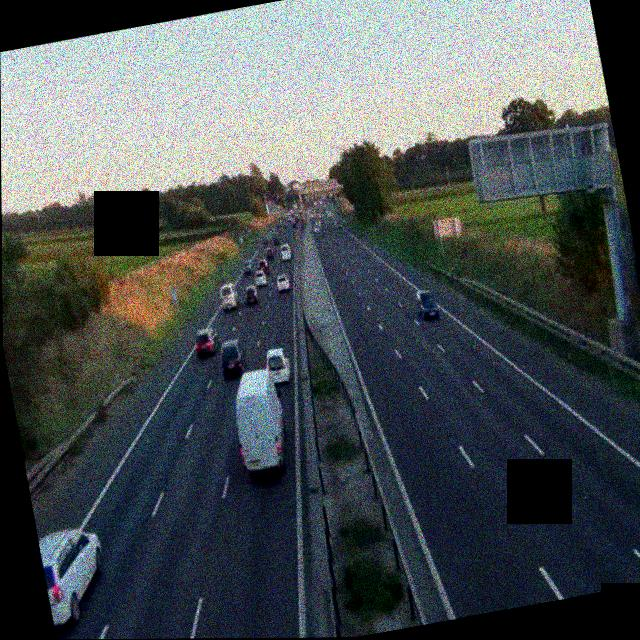car: (37, 524, 112, 628), (262, 343, 292, 386), (217, 339, 248, 379), (192, 326, 220, 358), (414, 286, 439, 319), (218, 282, 238, 310), (244, 282, 261, 305), (274, 272, 290, 292), (252, 267, 268, 287), (278, 243, 291, 262), (240, 261, 253, 277), (263, 246, 274, 261), (260, 234, 270, 247), (312, 221, 322, 233), (334, 219, 342, 231)
truck: (226, 366, 292, 476)
